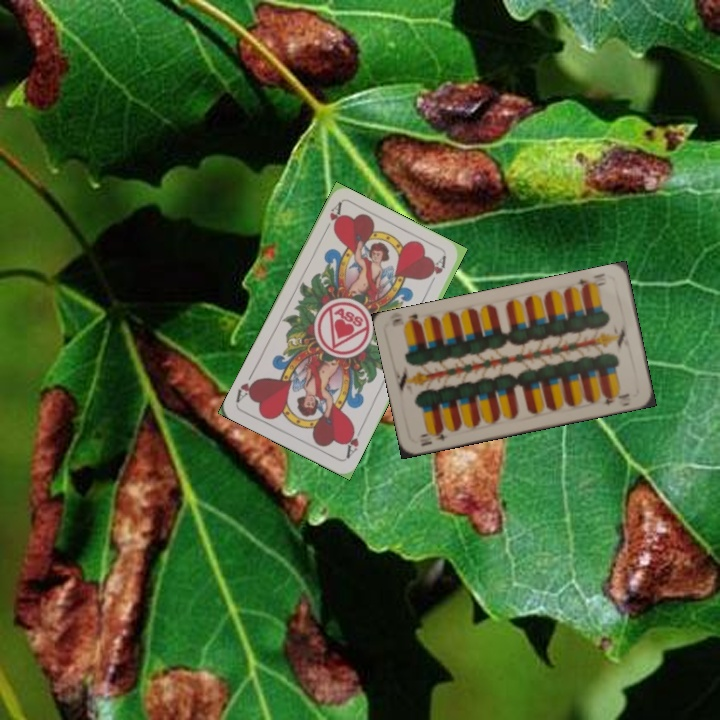E10: (573, 269, 610, 293), (416, 425, 450, 443)
HA: (319, 199, 344, 237), (341, 422, 365, 461)
